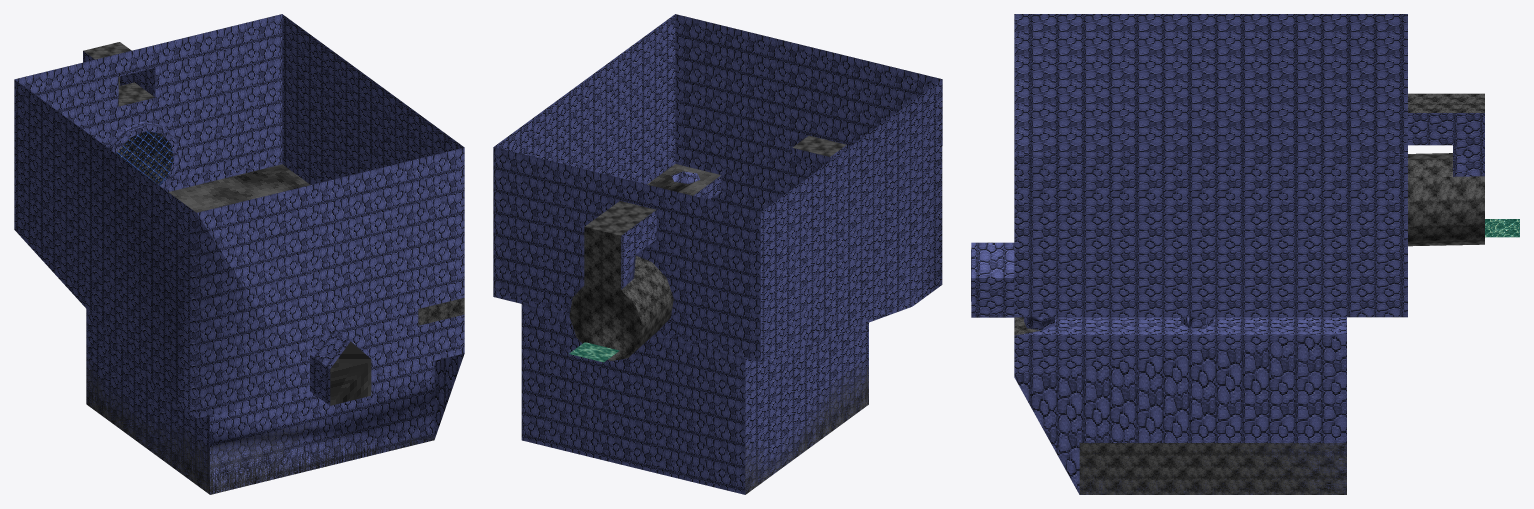
Rendered from level 11 area 2.dae.
3 views of the same model, side by side, from view 1: azimuth 30°, elevation 25°; view 2: azimuth 150°, elevation 25°; view 3: azimuth 270°, elevation 25° (orthographic). The views are drawn at different scales.
Parts seen in each view (by area): view 1: lvl_2_underground; view 2: lvl_2_underground; view 3: lvl_2_underground.
Boxes of the visible parts, bbox=[...] form: lvl_2_underground: bbox=[14, 14, 464, 494]; lvl_2_underground: bbox=[493, 14, 942, 494]; lvl_2_underground: bbox=[971, 14, 1519, 494].
Size of the model in its own units: 12.61 by 20.72 by 14.15.
